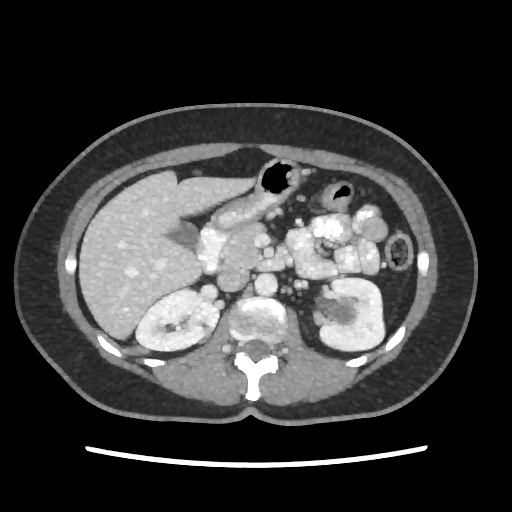Lesion: (322, 295, 358, 326)
